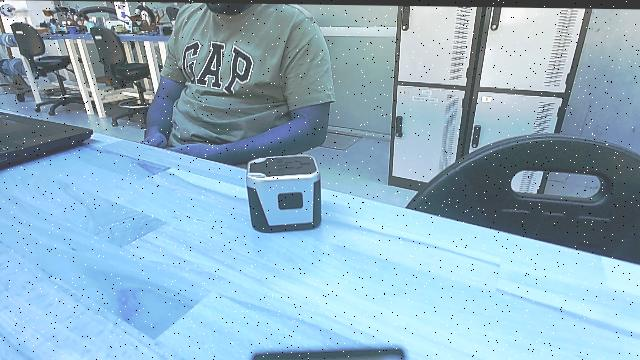adapter: (242, 150, 326, 234)
